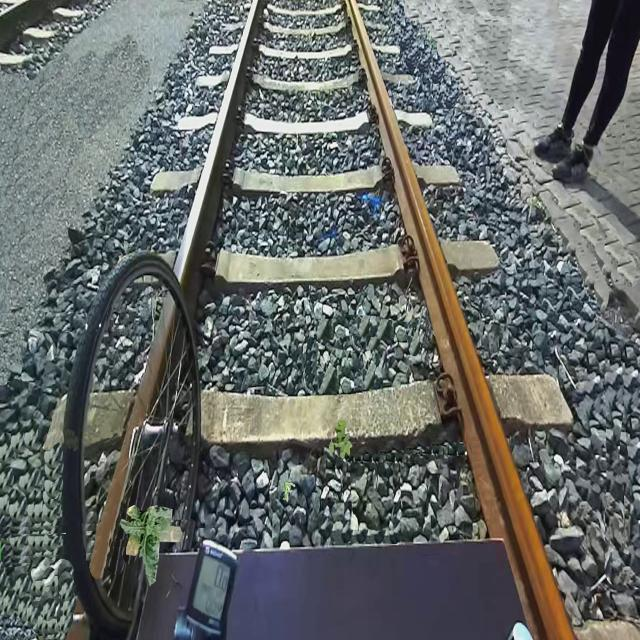Plant: (120, 505, 184, 588), (329, 419, 353, 460), (282, 482, 296, 502)
